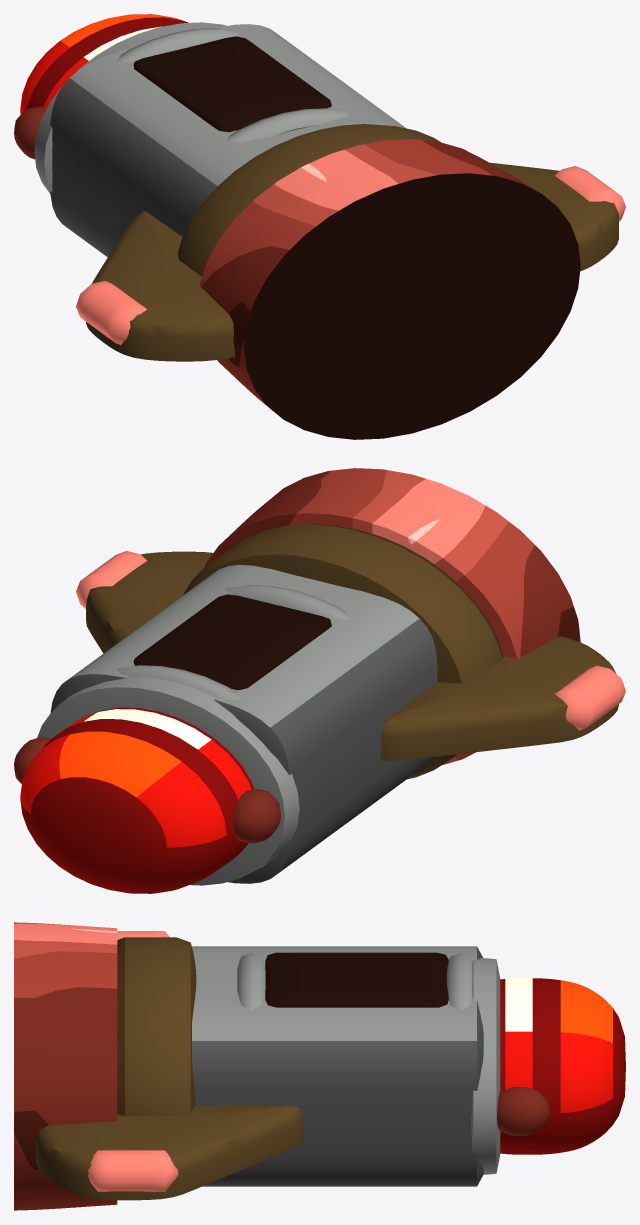
The model's file is ixm_pod_top_157.glb.
3 views of the same model, one above another, from view 1: azimuth 30°, elevation 25°; view 2: azimuth 150°, elevation 25°; view 3: azimuth 270°, elevation 25° (orthographic). The views are drawn at different scales.
Parts seen in each view (by area): view 1: ixm_pod_top_157; view 2: ixm_pod_top_157; view 3: ixm_pod_top_157.
Boxes of the visible parts, bbox=[...] form: ixm_pod_top_157: bbox=[14, 14, 625, 439]; ixm_pod_top_157: bbox=[14, 468, 625, 893]; ixm_pod_top_157: bbox=[14, 922, 625, 1210].
Size of the model in its own units: 22 by 10.36 by 23.72.
